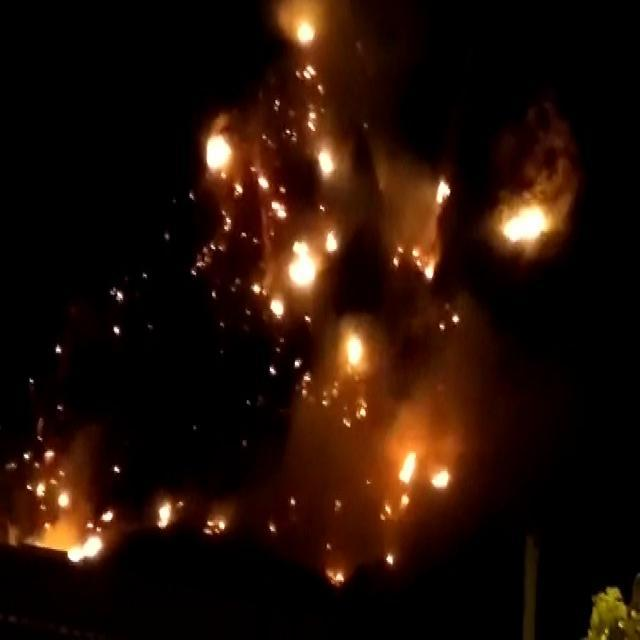Fire: (200, 113, 341, 314), (25, 441, 111, 564), (376, 436, 455, 524), (297, 338, 371, 420), (498, 186, 551, 250), (395, 232, 438, 280), (290, 13, 316, 51), (157, 491, 175, 529), (205, 512, 230, 538), (325, 562, 348, 588), (434, 174, 450, 211)
Smoke: (286, 334, 490, 582), (363, 107, 449, 240)
